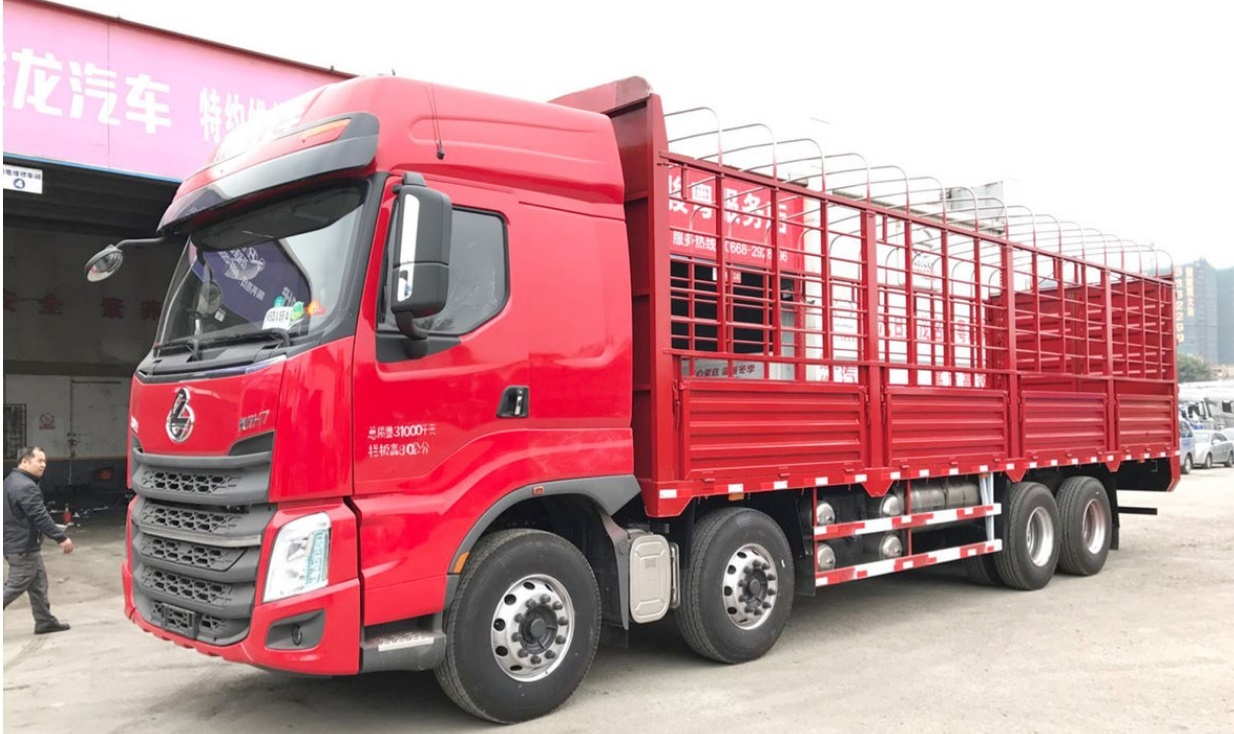heavy truck: (118, 61, 1183, 715)
